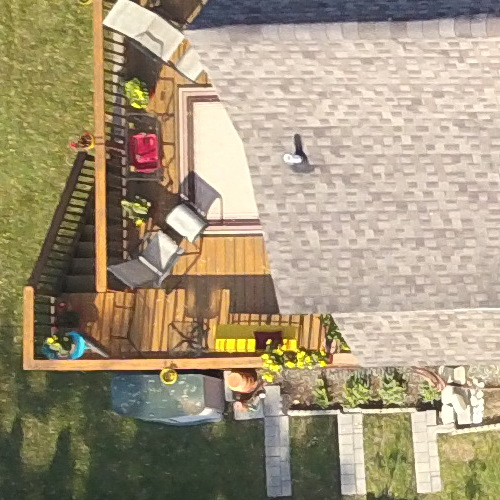container: (129, 123, 163, 181)
flower pot: (67, 123, 102, 156), (43, 333, 79, 361), (158, 364, 182, 389)
porch: (1, 5, 289, 422)
